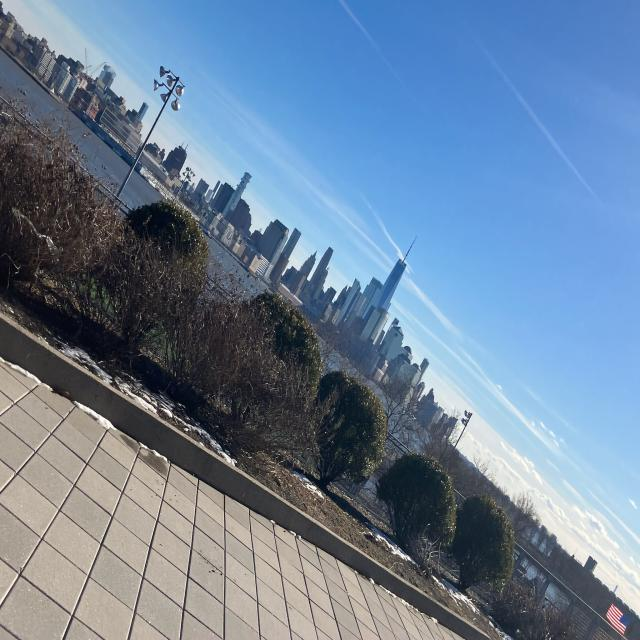WTC: (374, 234, 423, 310)
